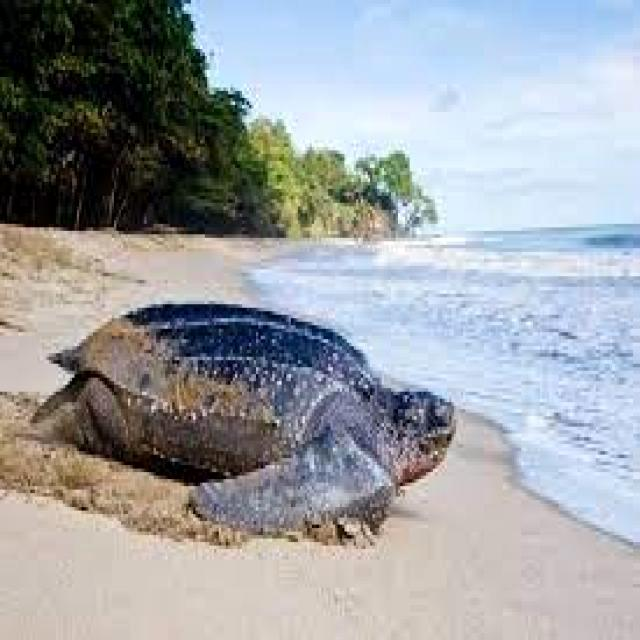Sea turtle: (33, 298, 457, 540)
